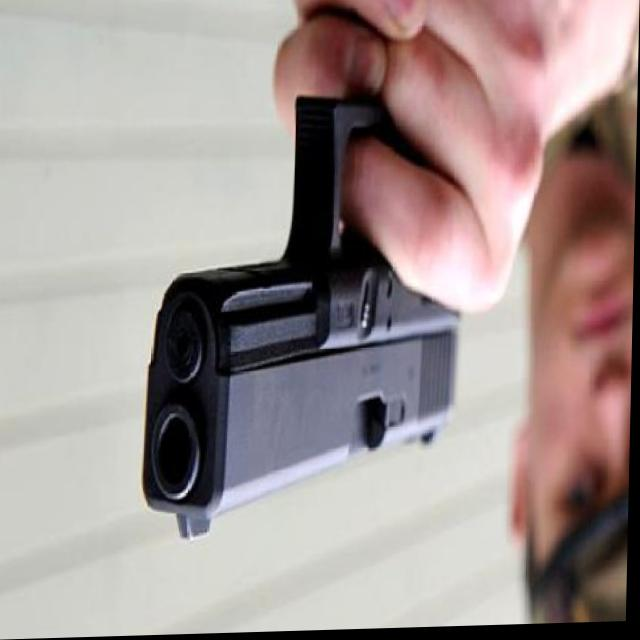handgun: (145, 93, 463, 541)
